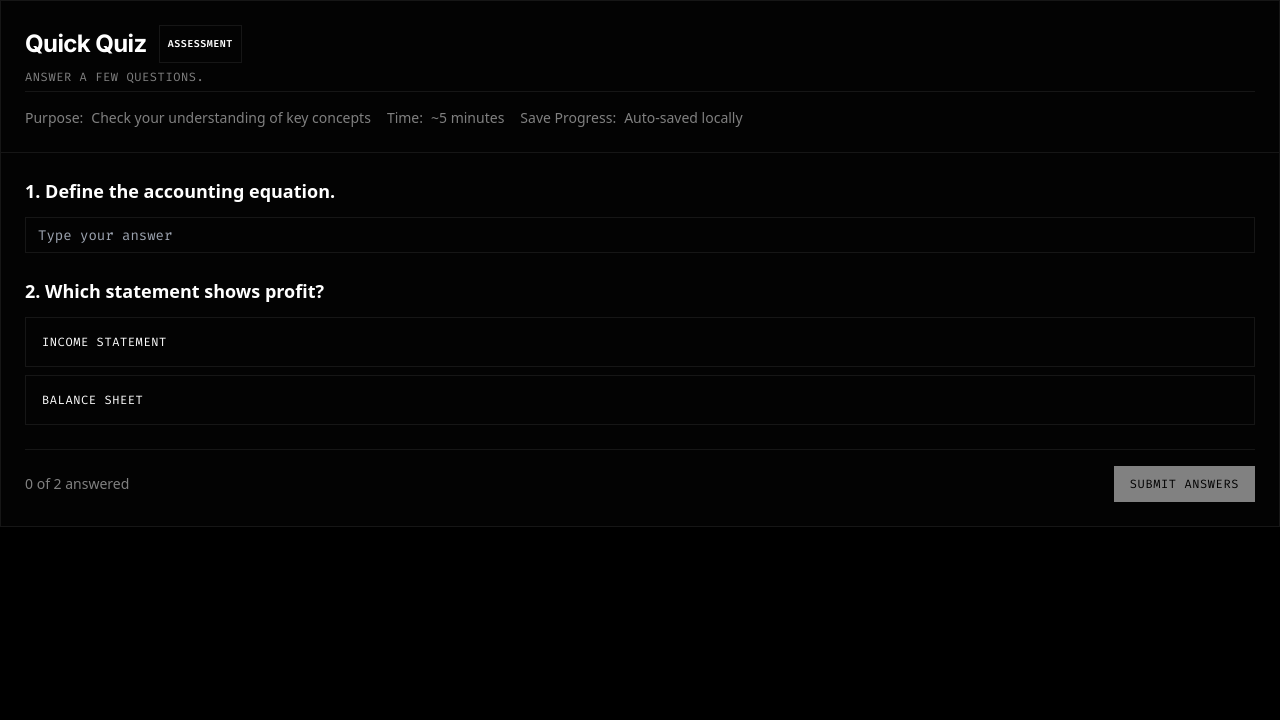
Test: ComprehensionCheck › accepts short-answer input and scores correctly
Type "assets = liabilities + equity" into the field with placeholder "Type your answer". click: (640, 235)
box: [25,217,1255,253]
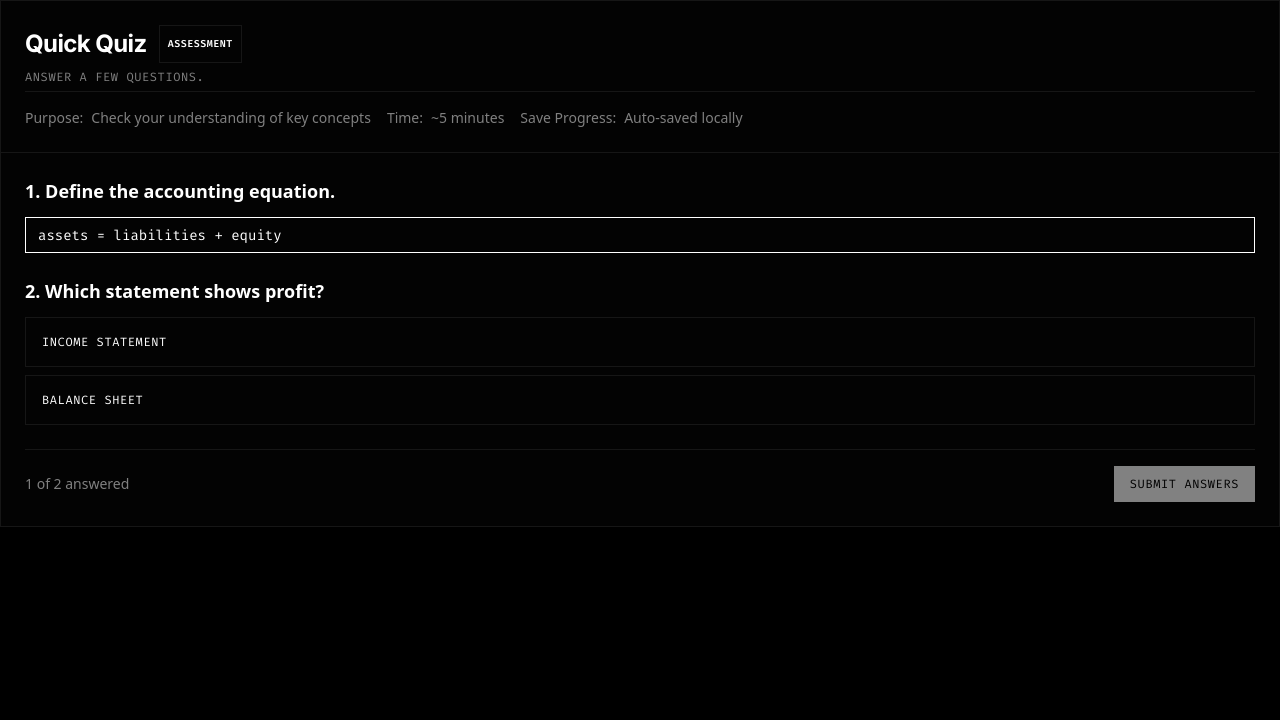
Click the button "Income Statement". click: (104, 342)
box: [25,317,1255,367]
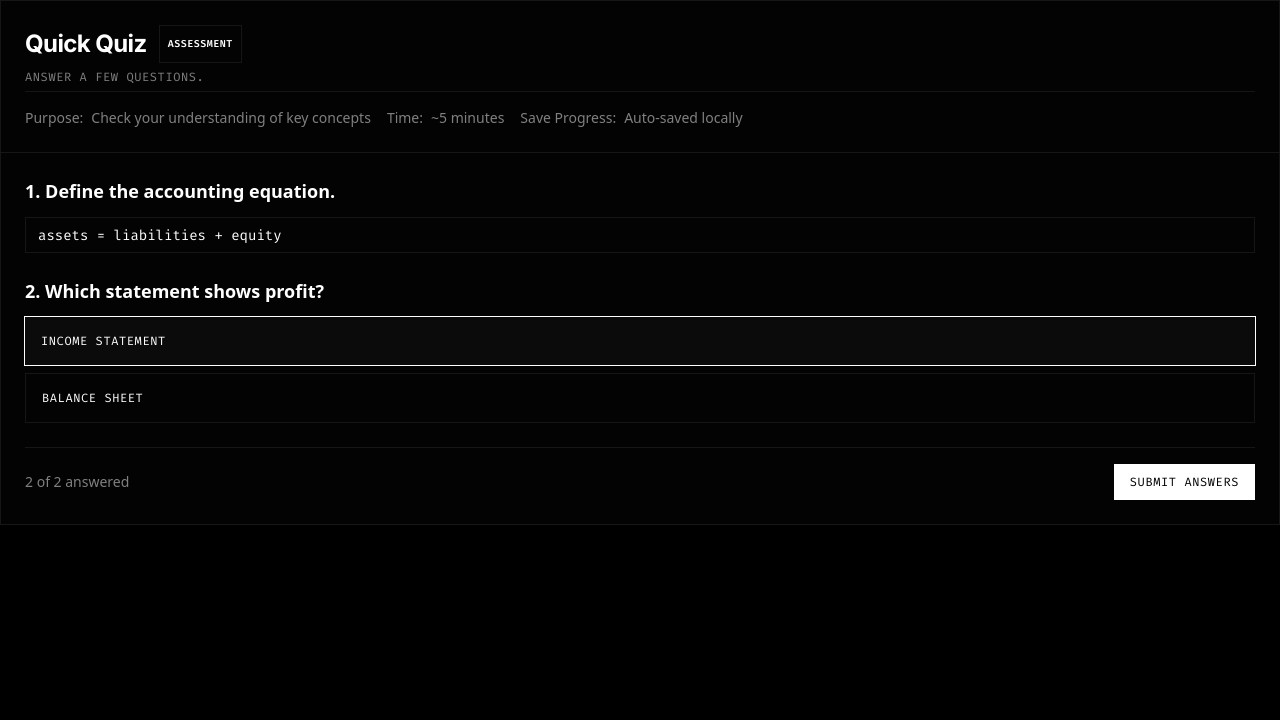
Click the button "Submit answers". click: (1184, 482)
box: [1114,464,1255,500]
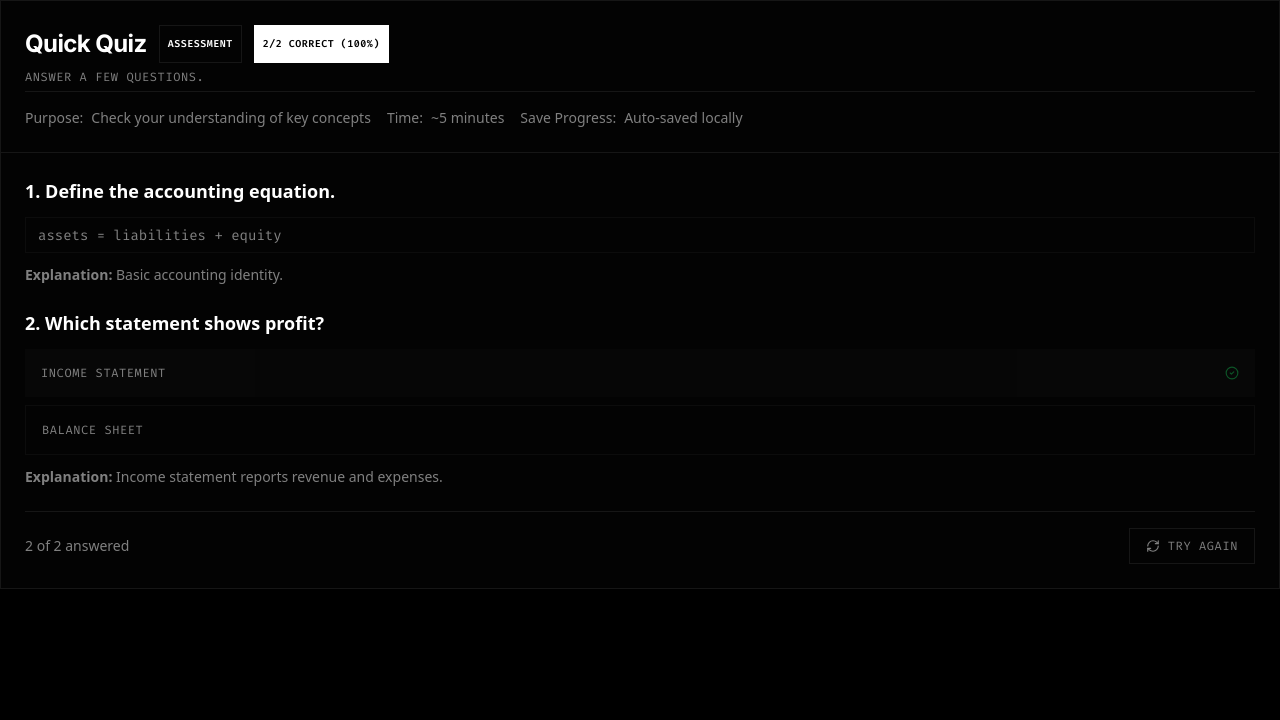
Expected: the text "2/2 correct (100%)" is shown, [254,25,389,63]
